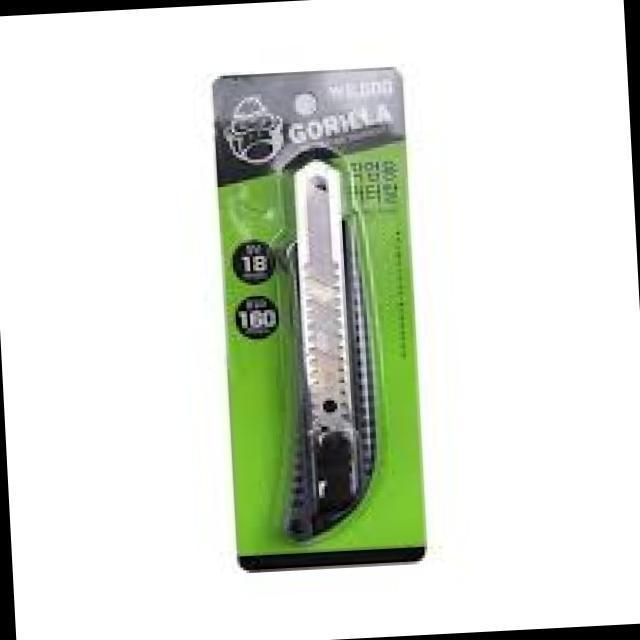cutter: (254, 153, 391, 540)
